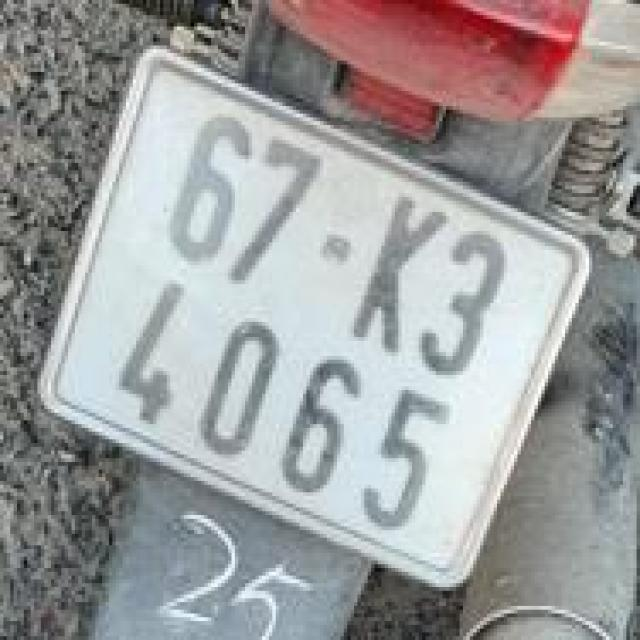0: (188, 305, 299, 472)
3: (406, 220, 525, 391)
4: (104, 267, 219, 442)
5: (347, 370, 467, 546)
6: (158, 94, 266, 278), (268, 343, 375, 510)
7: (219, 123, 336, 299)
K: (339, 184, 461, 379)
